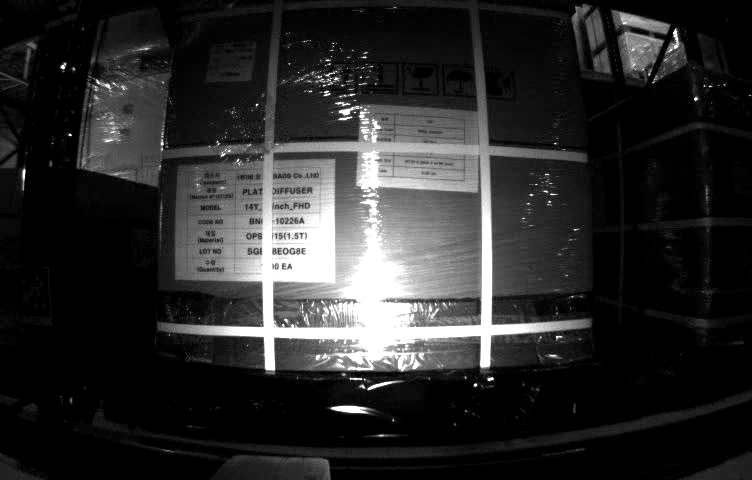True Barcode: (210, 40, 253, 82)
